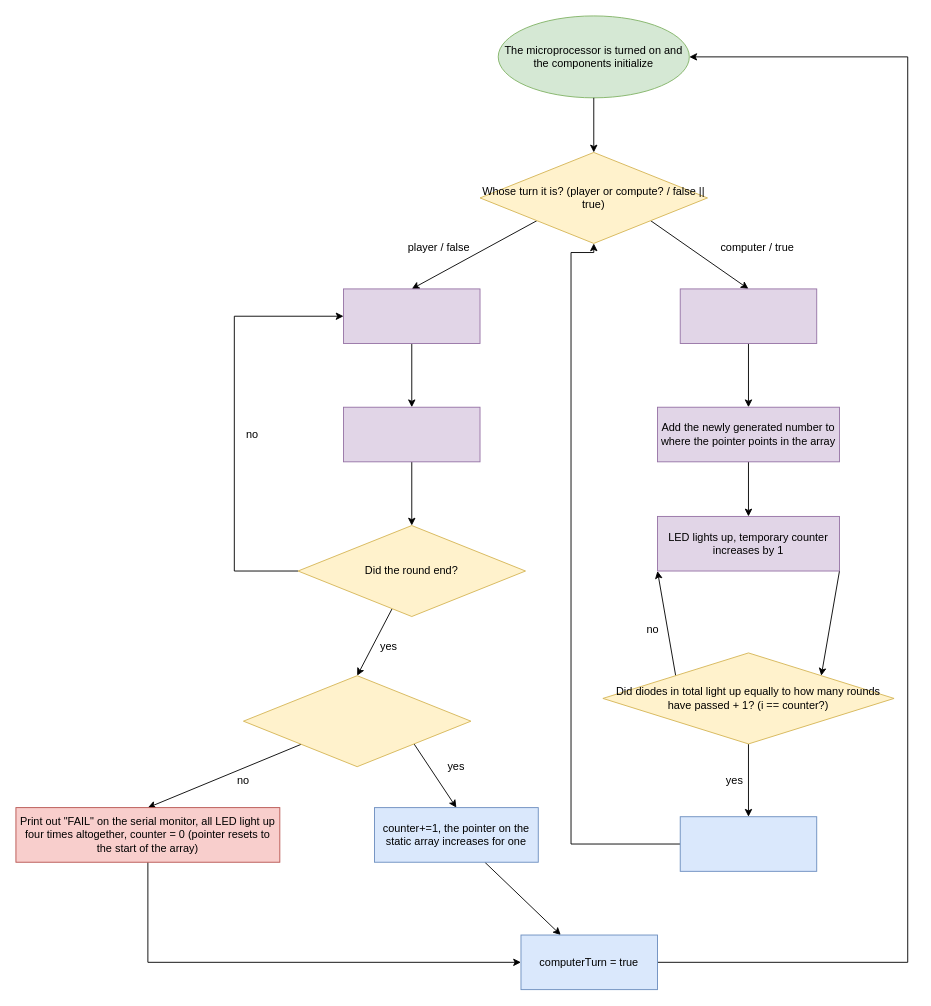
Image size: 931x1006. Some labels were removed from this diagram. Here are the shapes that lost their labels. From the top down, the box of each, then its label:
(343, 288, 480, 344): A button is pressed
(679, 288, 817, 344): Generate new number
(343, 406, 480, 462): LED lights up appropriately to the pressed button
(243, 675, 471, 767): Successful round?
(679, 816, 817, 871): computerTurn = false
